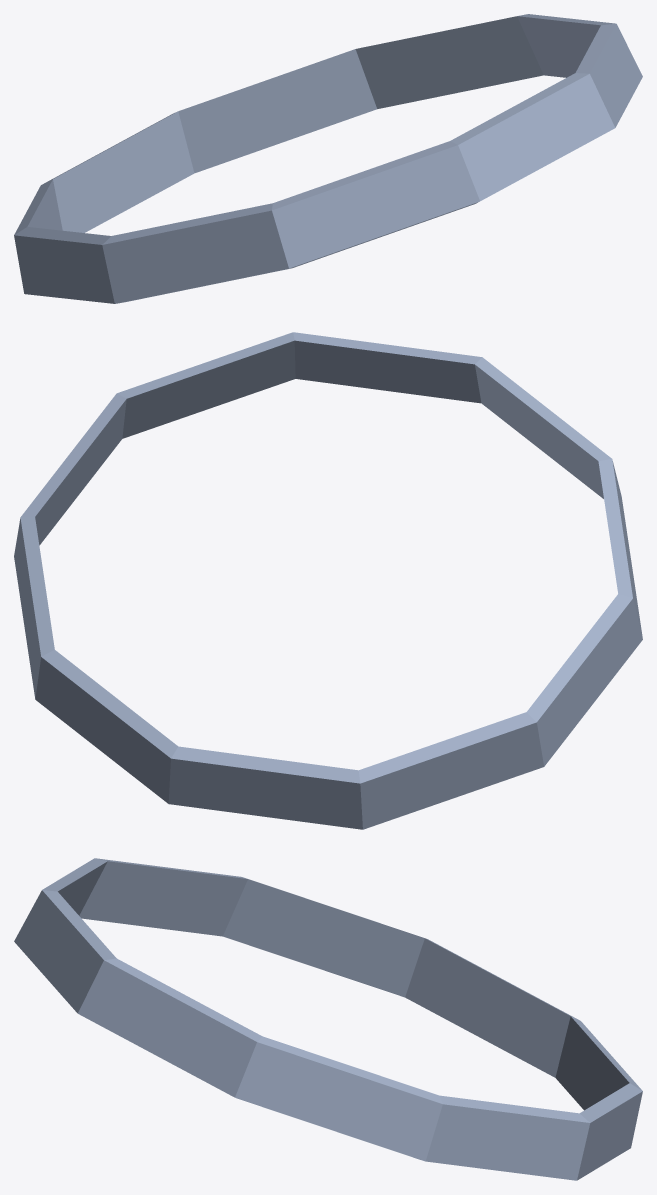
File: barrel-016.glb
3 renders of one model, top to bottom at view 1: azimuth 30°, elevation 25°; view 2: azimuth 150°, elevation 25°; view 3: azimuth 270°, elevation 25°, orthographic. The views are drawn at different scales.
Parts seen in each view (by area): view 1: barrel.016; view 2: barrel.016; view 3: barrel.016.
Part boxes in pixels (box(x1,y1,x2,y2)): barrel.016: box(14, 14, 642, 303); barrel.016: box(14, 332, 642, 829); barrel.016: box(14, 858, 642, 1180).
Bounding box in the file's own units: 1.9 × 0.8879 × 1.92.
